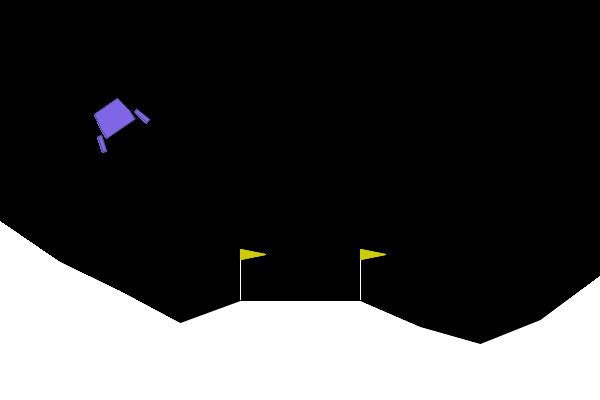lander: (80, 88, 152, 155)
